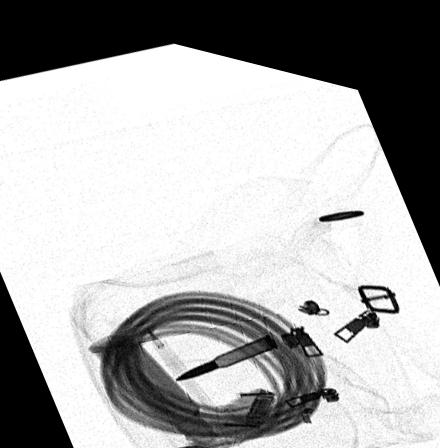Bullet: (172, 320, 276, 370)
